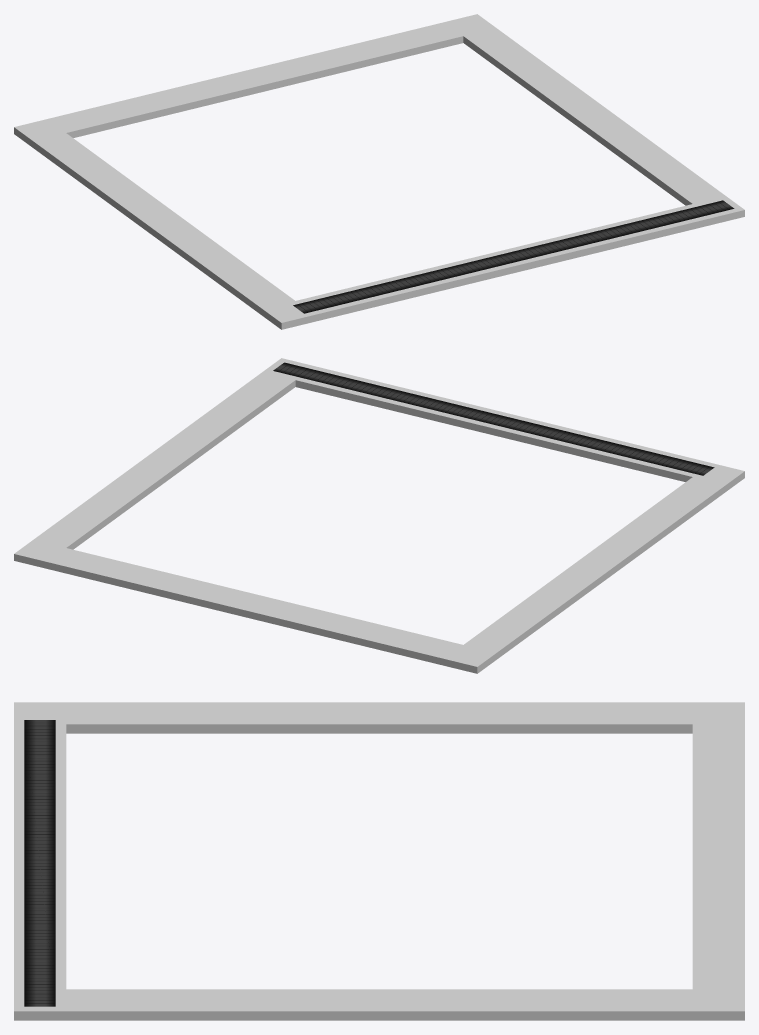
The picture shows the model from 3 angles, top to bottom: view 1: azimuth 30°, elevation 25°; view 2: azimuth 150°, elevation 25°; view 3: azimuth 270°, elevation 25°; orthographic projection. The views are drawn at different scales.
Parts seen in each view (by area): view 1: Box023, Box011, Box012, Box008, Box010, Box014, Box025, Box018, Box022, Box024, Box016, Box020; view 2: Box022, Box011, Box012, Box008, Box010, Box016, Box025, Box018, Box023, Box024, Box014, Box020; view 3: Box024, Box008, Box010, Box012, Box011, Box020, Box025, Box023, Box022, Box016, Box014, Box018.
Boxes of the visible parts, x1,y1,x2,y2 form: Box023: [284, 207, 744, 327]; Box011: [293, 200, 734, 313]; Box012: [25, 23, 465, 136]; Box008: [455, 18, 722, 204]; Box010: [36, 132, 303, 318]; Box014: [56, 33, 463, 137]; Box025: [17, 128, 288, 329]; Box018: [460, 32, 698, 205]; Box022: [14, 15, 474, 136]; Box024: [471, 14, 740, 208]; Box016: [296, 202, 702, 303]; Box020: [60, 133, 298, 305]; Box022: [20, 553, 481, 673]; Box011: [273, 362, 714, 475]; Box012: [44, 549, 485, 662]; Box008: [24, 371, 292, 557]; Box010: [466, 467, 733, 653]; Box016: [289, 376, 696, 481]; Box025: [475, 469, 744, 670]; Box018: [56, 378, 295, 550]; Box023: [278, 358, 737, 472]; Box024: [14, 361, 283, 562]; Box014: [62, 548, 469, 649]; Box020: [464, 474, 702, 646]; Box024: [24, 1006, 744, 1020]; Box008: [55, 993, 734, 1006]; Box010: [24, 706, 703, 719]; Box012: [703, 706, 734, 993]; Box011: [24, 720, 55, 1006]; Box020: [55, 720, 692, 733]; Box025: [14, 702, 734, 706]; Box023: [14, 706, 24, 1020]; Box022: [734, 702, 744, 1006]; Box016: [55, 724, 66, 993]; Box014: [692, 720, 703, 989]; Box018: [66, 989, 703, 993].
Bounding box in the file's own units: 7000 × 100 × 7000.
Materials: 1 (1 with a texture image).
